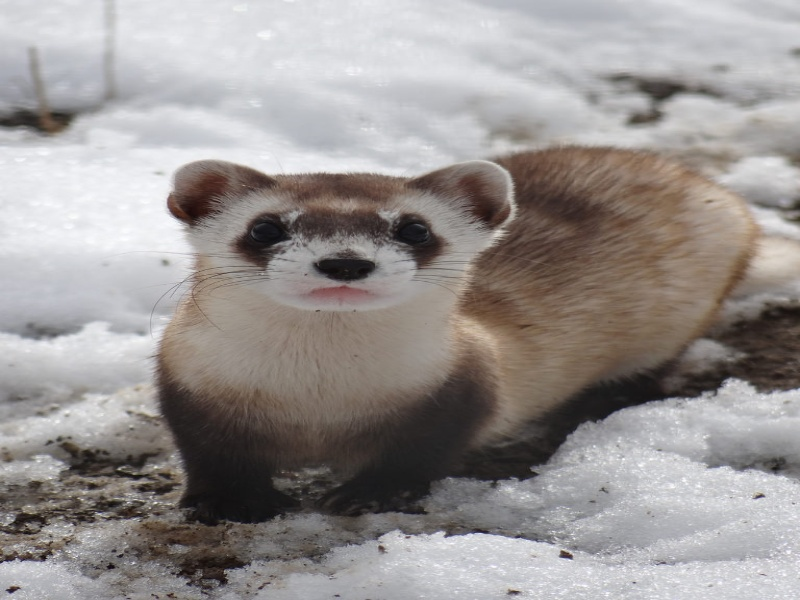minkish: (159, 135, 767, 529)
